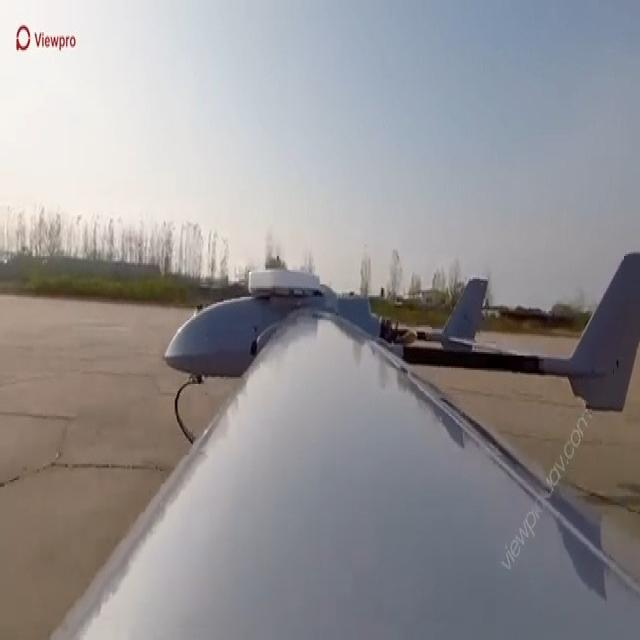drones: (161, 246, 640, 516)
